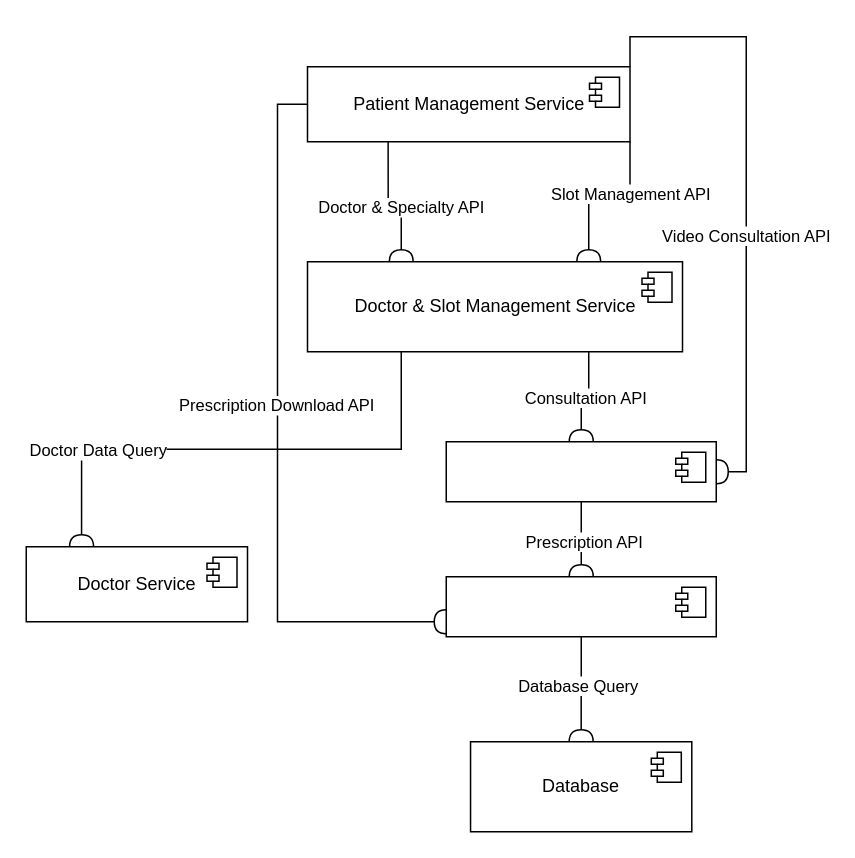
This 855x858 diagram has some shape labels left out. The shapes that lost their labels are listed below. From the top down, each one's centre as x and y in pixels, then its label:
At pixel 580 471: "Consultation Service".
At pixel 580 606: "Prescription Service".
